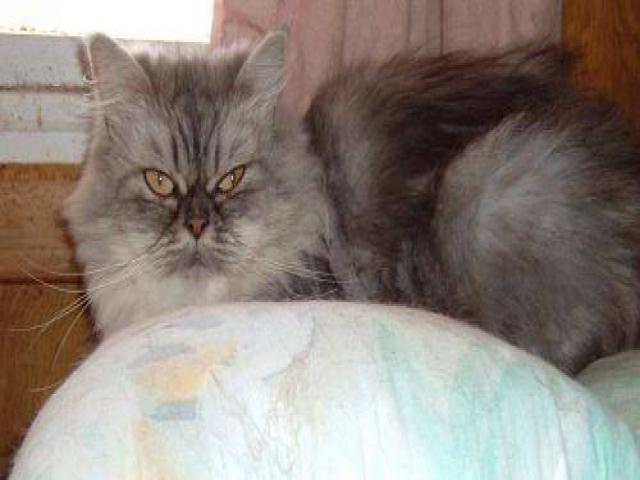cat: (41, 23, 631, 411)
